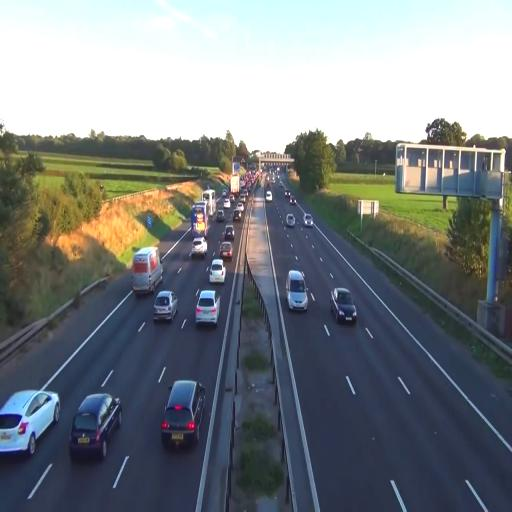vehicle: (0, 388, 60, 460), (68, 392, 122, 460), (160, 378, 206, 450), (131, 246, 163, 298), (132, 245, 163, 298), (194, 288, 220, 328), (330, 287, 358, 324), (286, 269, 307, 311), (154, 291, 178, 323), (190, 202, 207, 240), (208, 257, 226, 285), (191, 236, 207, 256), (218, 240, 234, 260), (285, 212, 296, 228), (303, 212, 313, 228)
